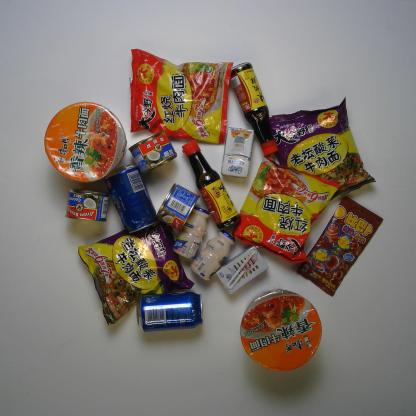Candy: (295, 189, 385, 298)
Canned Food: (128, 129, 178, 174), (156, 182, 200, 232), (64, 186, 112, 224)
Drink: (102, 162, 157, 236), (135, 290, 204, 334)
Instant Noodles: (76, 217, 196, 327), (265, 96, 376, 212), (230, 152, 342, 264), (128, 46, 235, 148), (239, 286, 323, 372), (43, 100, 127, 185)
Milk: (214, 245, 270, 295), (188, 229, 236, 282), (172, 203, 210, 260), (219, 125, 256, 181)
Seasoner: (178, 136, 242, 235), (225, 60, 279, 158)
